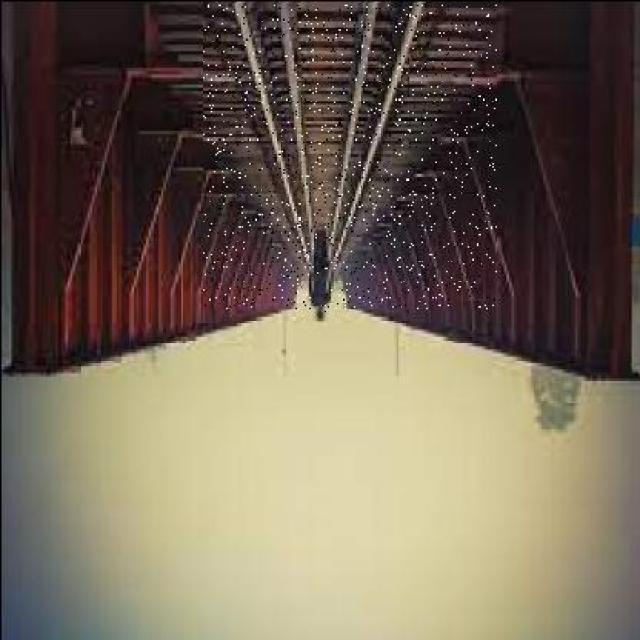rail: (204, 4, 496, 307)
